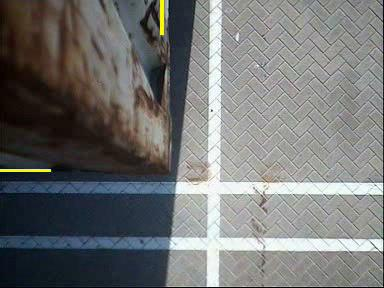groundmarker_2: (192, 152, 228, 234)
